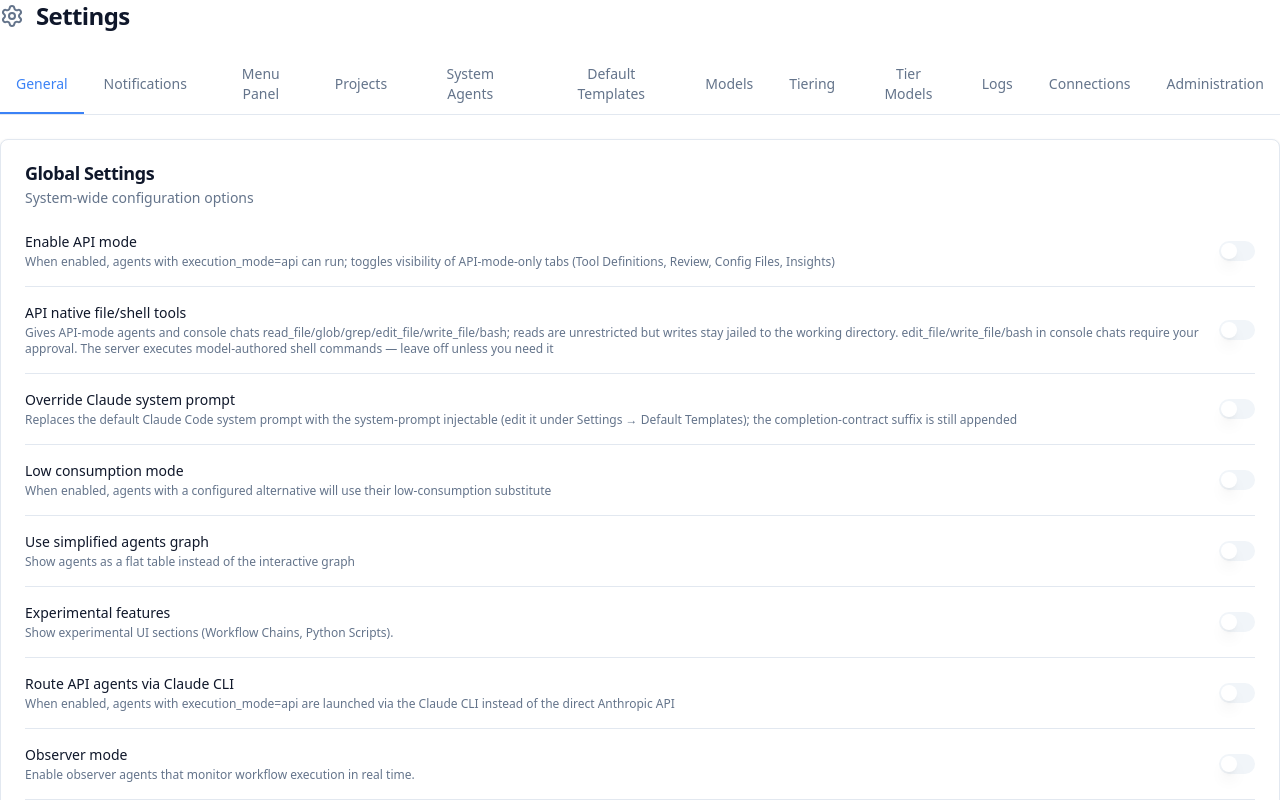
Test case: SettingsPage - use_git_worktrees toggle › Display mode › shows worktrees alongside other metadata
Click the button "Projects". click: {"x": 361, "y": 85}
box: [319,56,403,114]
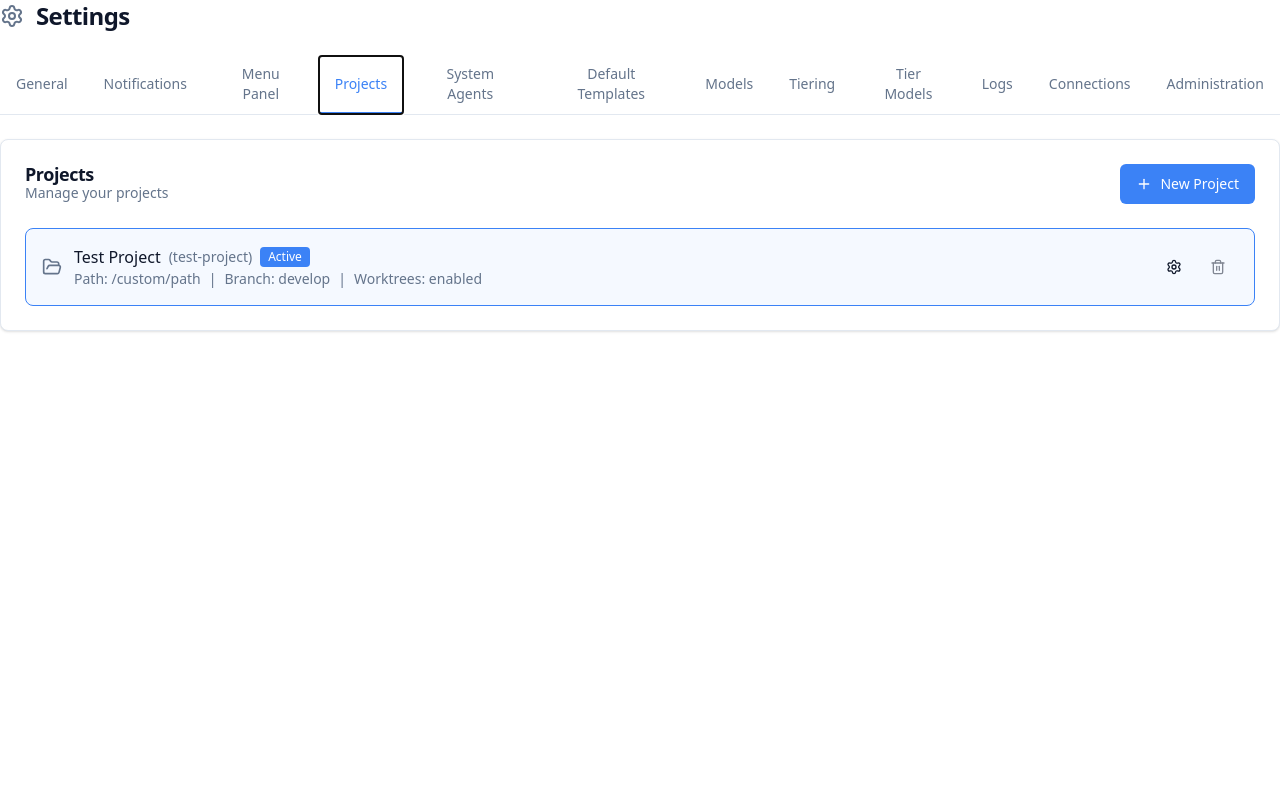
Expected: the text "Test Project" is shown, [74,245,161,269]
Expected: the text "Path: /custom/path" is shown, [74,269,201,288]
Expected: the text "Branch: develop" is shown, [224,269,330,288]
